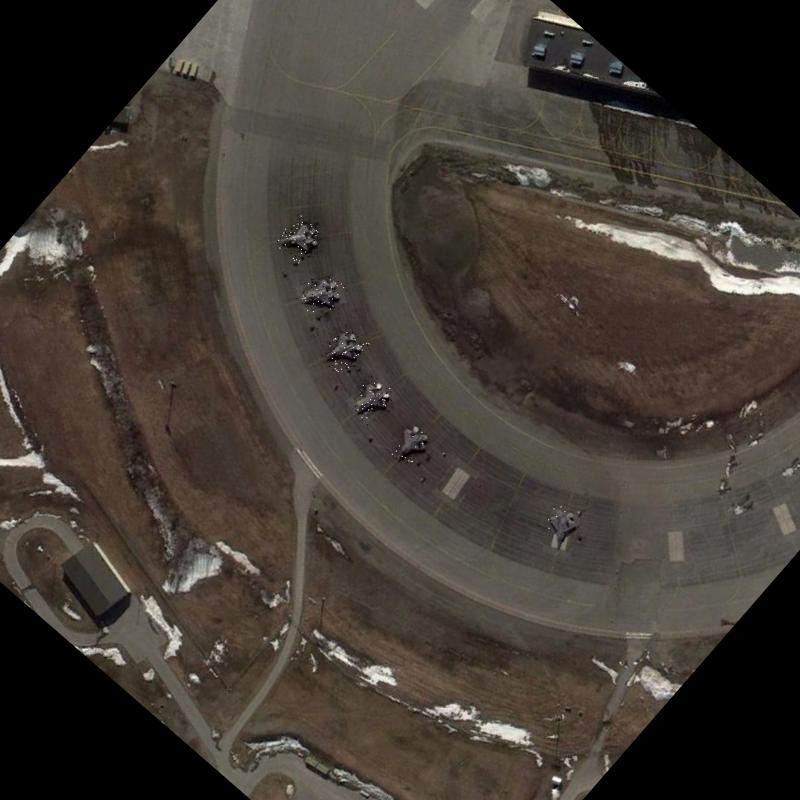A15: (294, 267, 348, 322), (317, 324, 369, 378), (344, 374, 396, 427), (272, 213, 323, 265), (384, 419, 434, 470), (534, 502, 584, 552)
